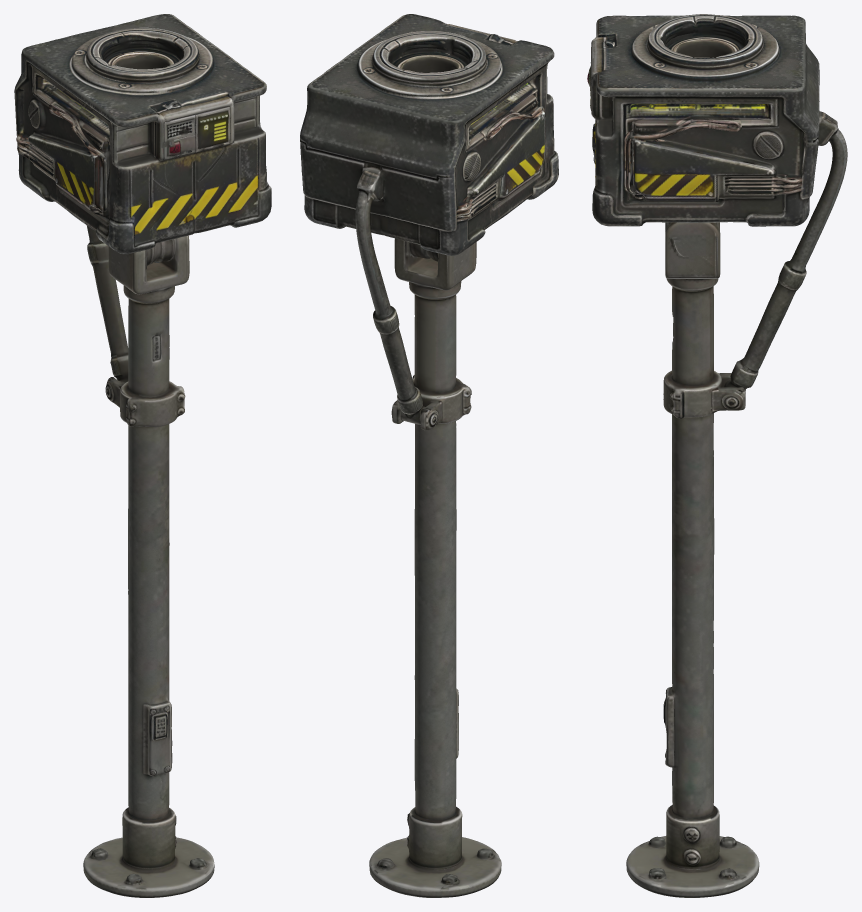
Rendered from tripo_convert_d6a69895-3eaf-4b0e-b101-441956dc3cfa.fbx.
3 renders of one model, left to right at view 1: azimuth 30°, elevation 25°; view 2: azimuth 150°, elevation 25°; view 3: azimuth 270°, elevation 25°, orthographic. The views are drawn at different scales.
Visible parts, largest first — view 1: tripo_node_d6a69895; view 2: tripo_node_d6a69895; view 3: tripo_node_d6a69895.
Boxes of the visible parts, x1,y1,x2,y2 form: tripo_node_d6a69895: (14,14,271,897); tripo_node_d6a69895: (300,14,558,897); tripo_node_d6a69895: (587,14,847,897).
Bounding box in the file's own units: 0.2079 × 0.9806 × 0.2772.
Materials: 1 (1 with a texture image).
